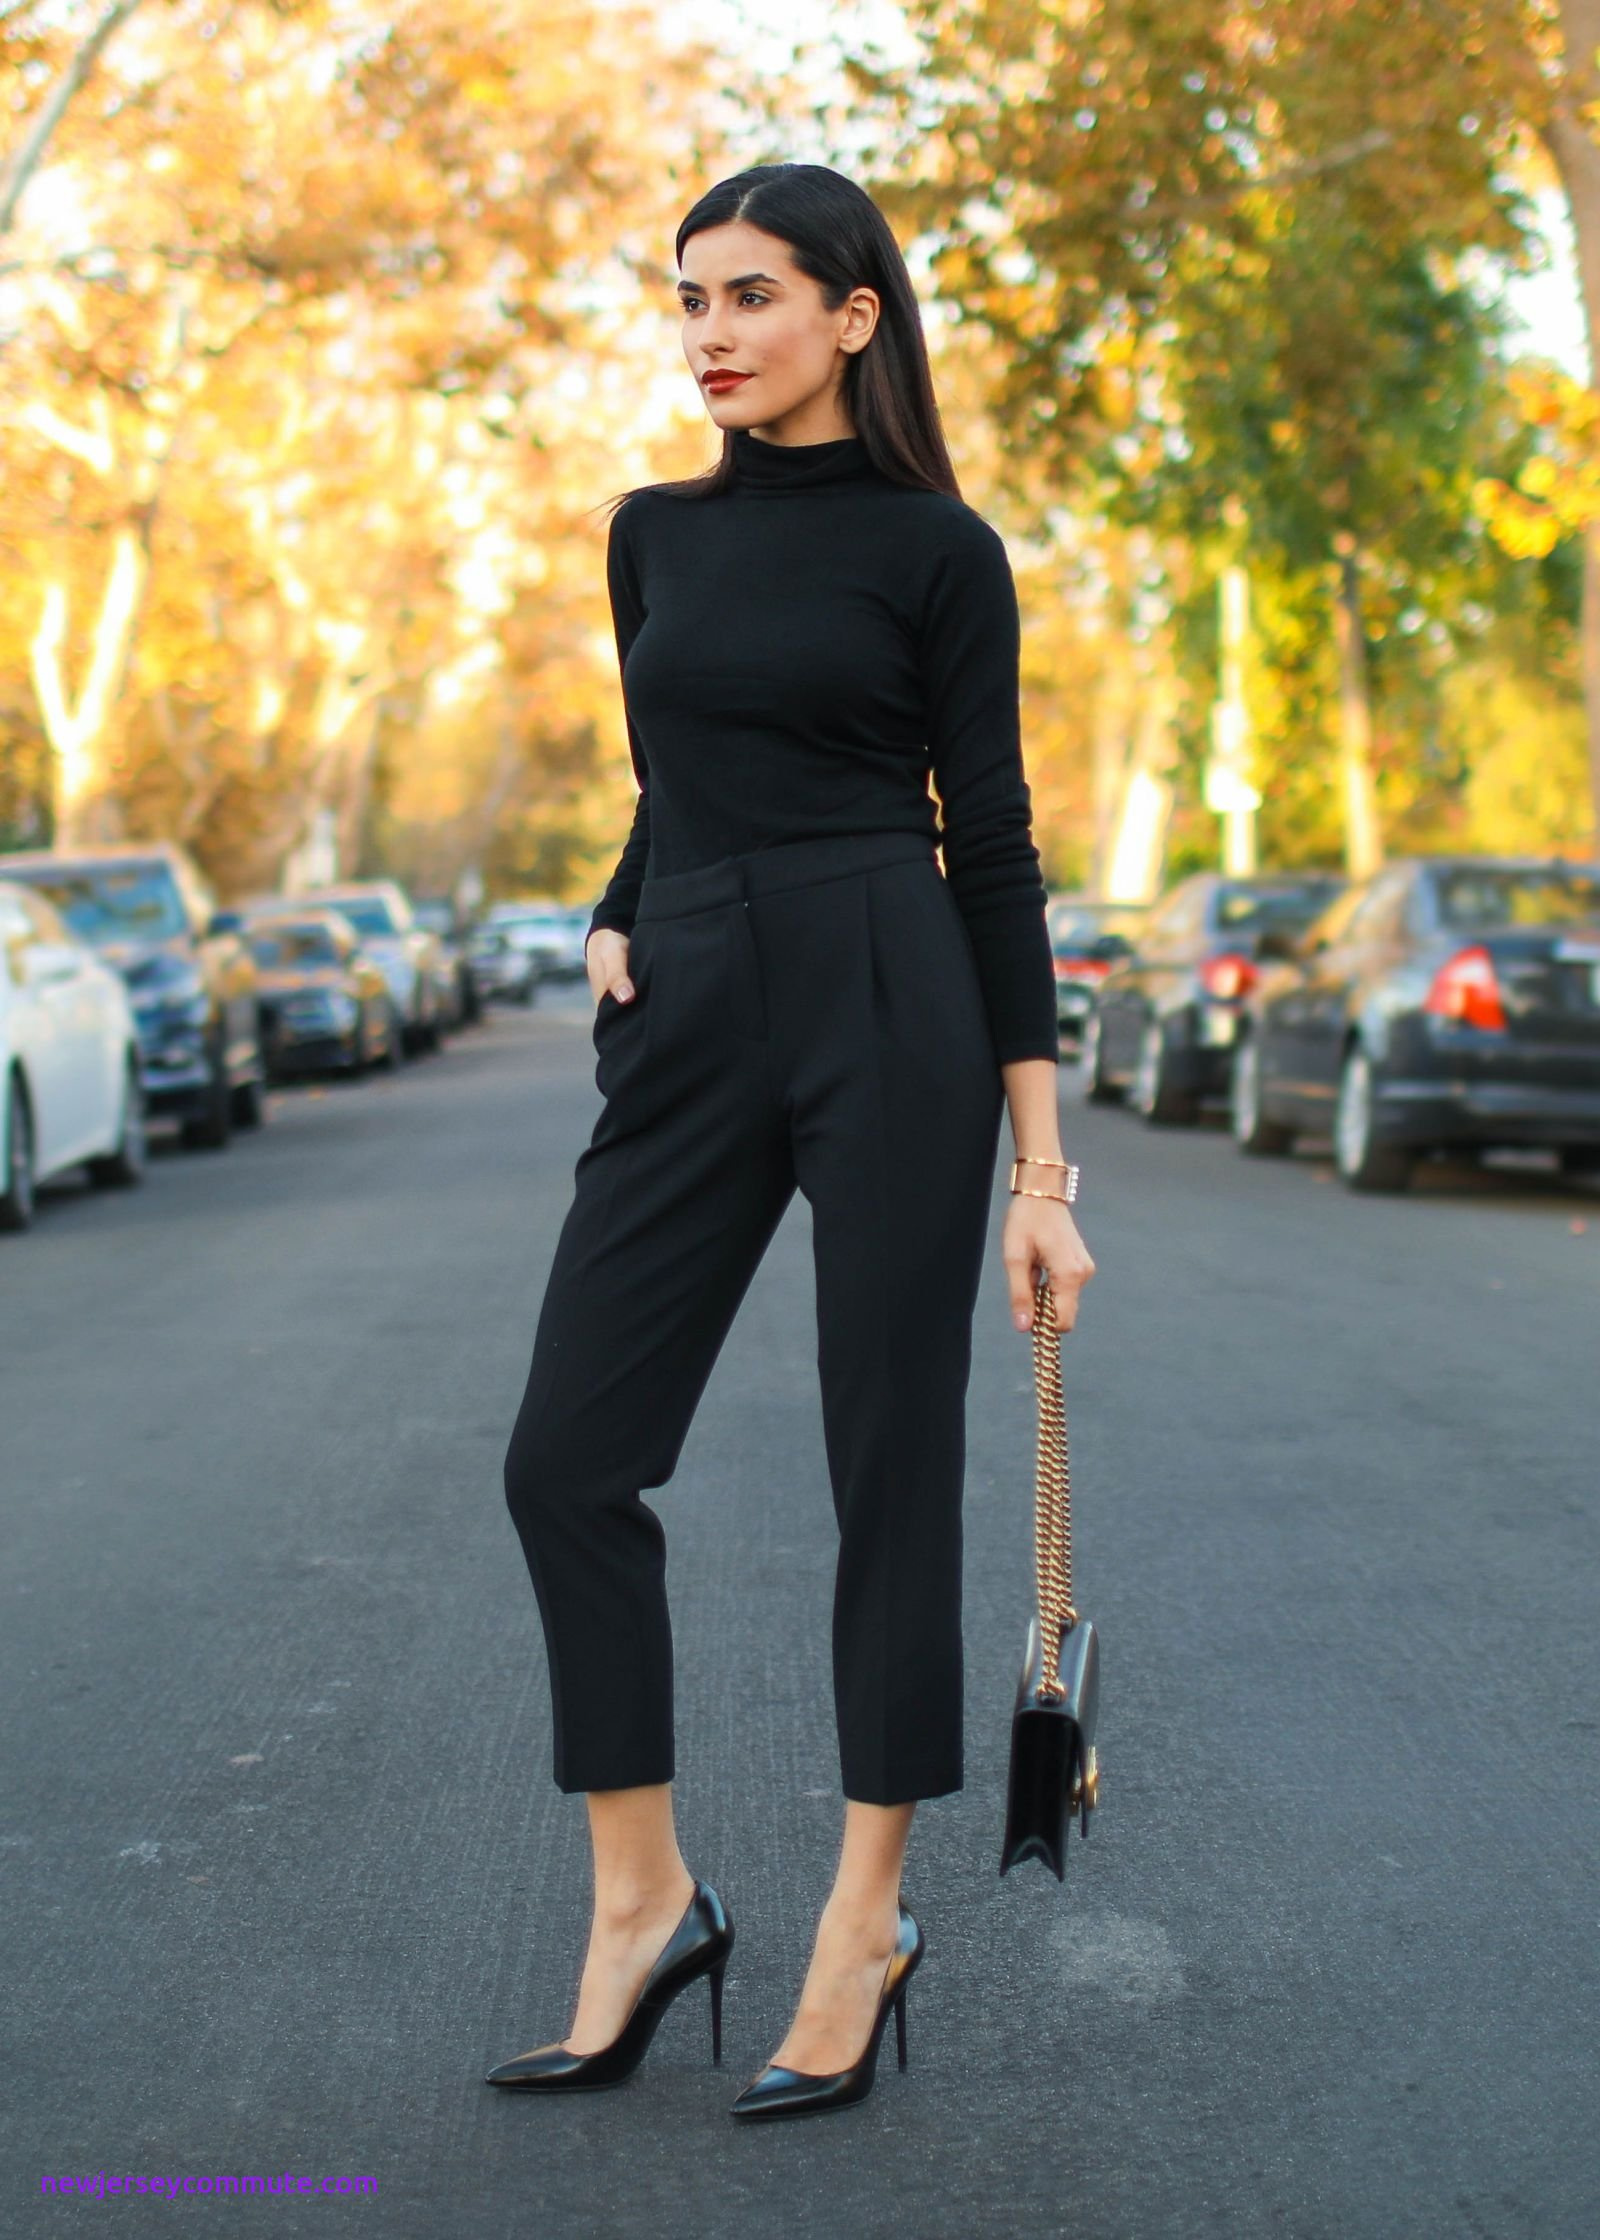F_W_suit jacket: (532, 372, 1051, 1061)
